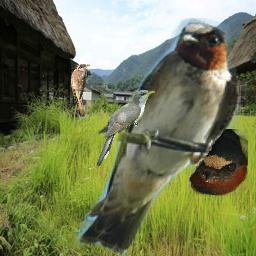Cuckoo: (96, 90, 155, 166), (71, 64, 90, 117)
Swallow: (74, 18, 241, 256), (189, 129, 248, 196)
